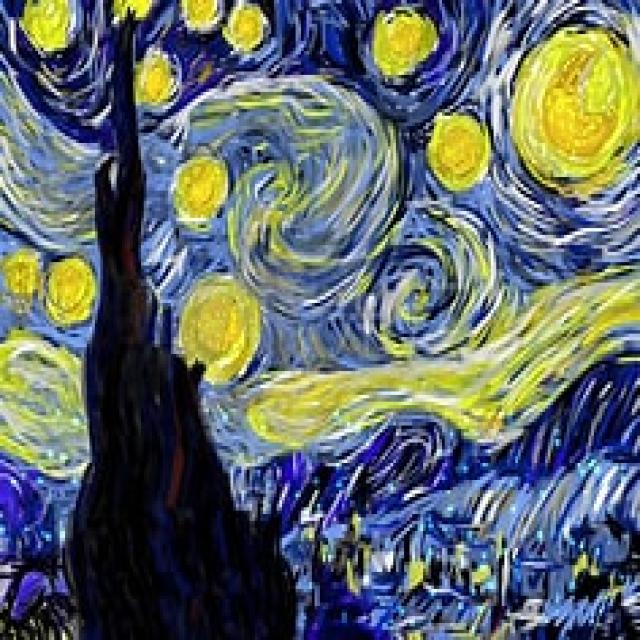starrynight: (3, 4, 639, 637)
